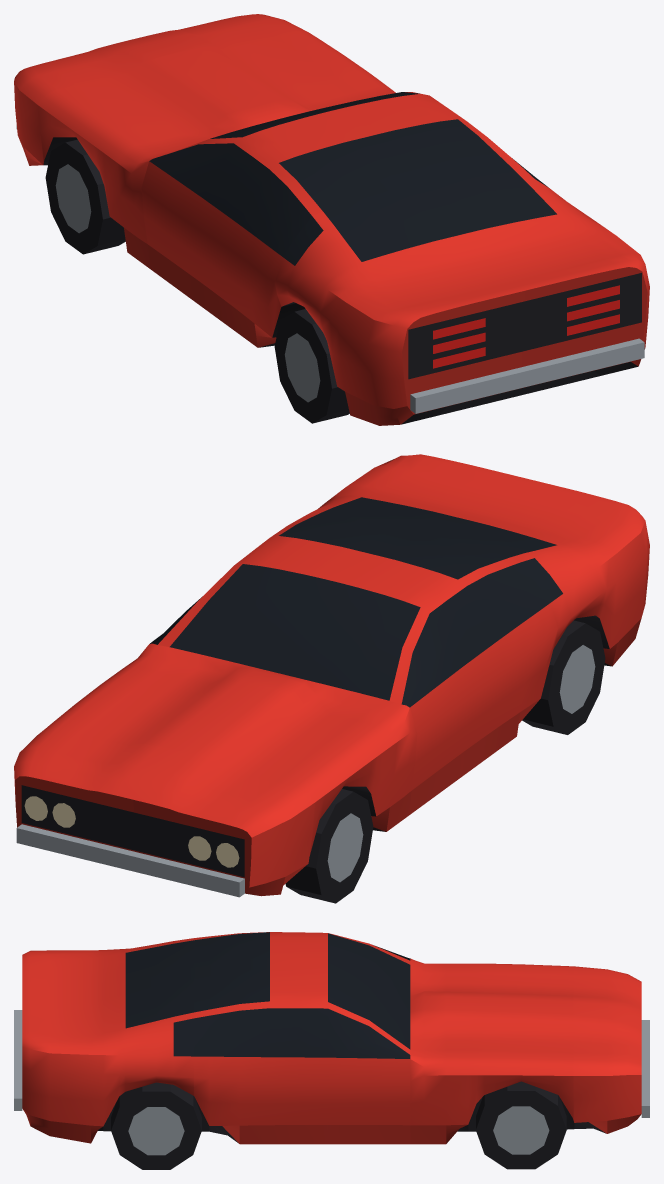
File: falcon_gt_lod1.glb
3 views of the same model, one above another, from view 1: azimuth 30°, elevation 25°; view 2: azimuth 150°, elevation 25°; view 3: azimuth 270°, elevation 25° (orthographic). The views are drawn at different scales.
Visible parts, largest first — view 1: Body; view 2: Body; view 3: Body.
Part boxes in pixels (x1,y1,x2,y2): Body: (14,14,649,425); Body: (14,454,649,903); Body: (14,932,649,1169).
Size of the model in its own units: 1.9 by 1.23 by 4.62.
